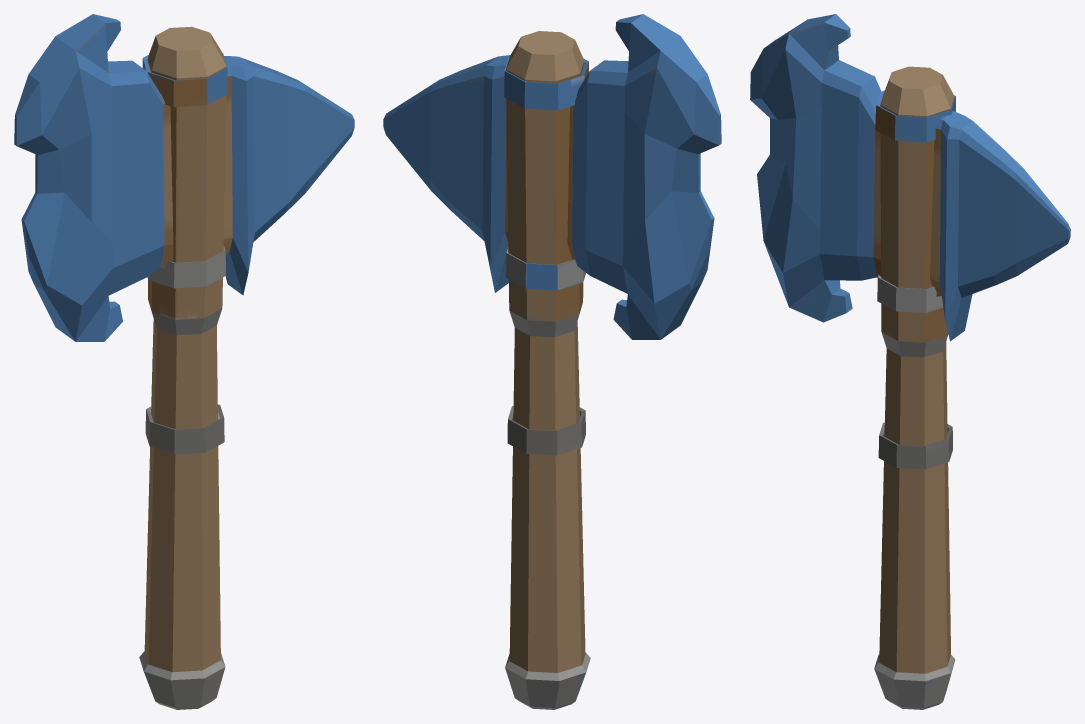
Rendered from hacha.obj.
3 views of the same model, side by side, from view 1: azimuth 30°, elevation 25°; view 2: azimuth 150°, elevation 25°; view 3: azimuth 330°, elevation 25° (orthographic). The views are drawn at different scales.
Parts seen in each view (by area): view 1: Filo_Cube.003; view 2: Filo_Cube.003; view 3: Filo_Cube.003.
Boxes of the visible parts, bbox=[...] form: Filo_Cube.003: bbox=[14, 14, 354, 709]; Filo_Cube.003: bbox=[383, 14, 721, 709]; Filo_Cube.003: bbox=[750, 14, 1070, 709].
Bounding box in the file's own units: 7.53 × 14.95 × 1.75.
Materials: 1 (1 with a texture image).
